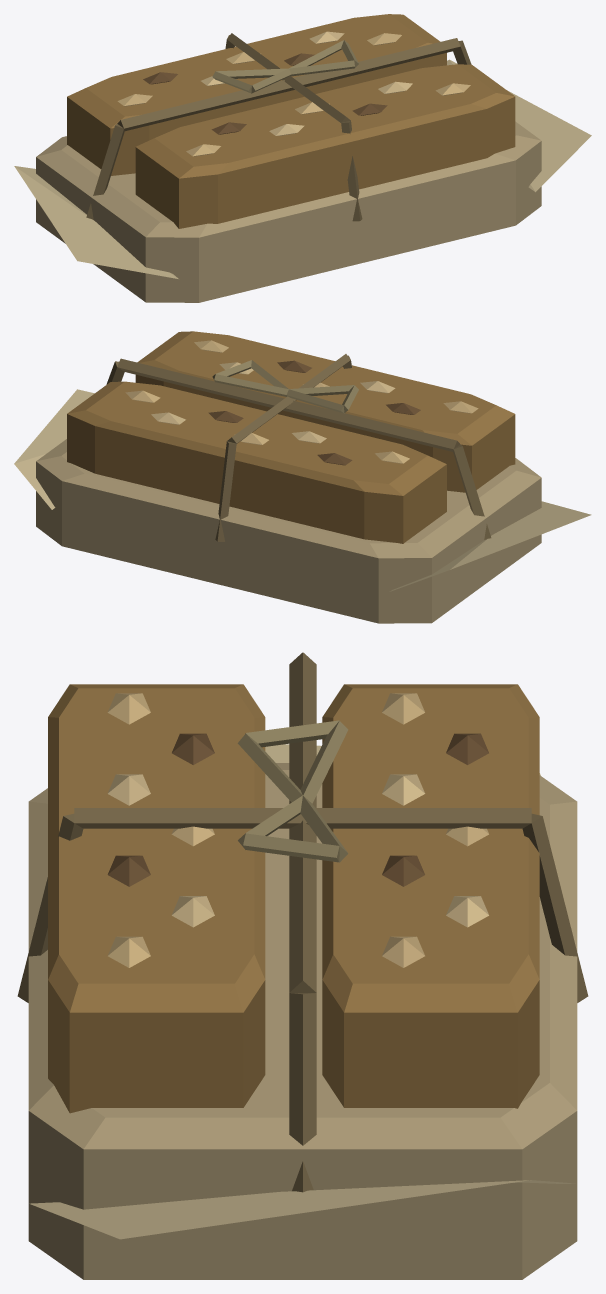
Rendered from ration_trail.glb.
3 views of the same model, one above another, from view 1: azimuth 30°, elevation 25°; view 2: azimuth 150°, elevation 25°; view 3: azimuth 270°, elevation 25° (orthographic). The views are drawn at different scales.
Visible parts, largest first — view 1: food; view 2: food; view 3: food.
Boxes of the visible parts, x1,y1,x2,y2 form: food: [14, 14, 591, 302]; food: [14, 331, 591, 623]; food: [17, 652, 588, 1279].
Size of the model in its own units: 0.52 by 0.1525 by 0.2497.
